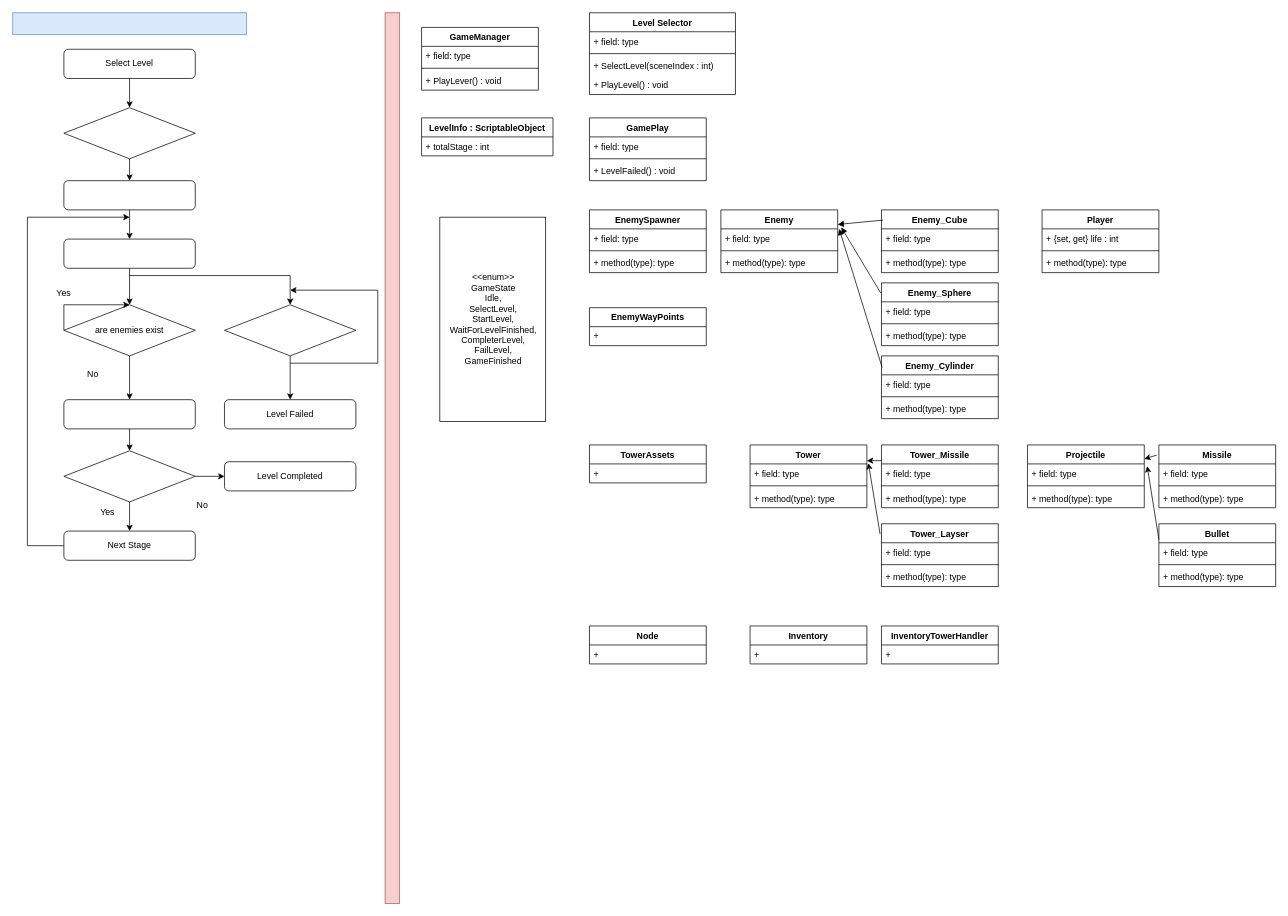
Some shapes in this 1288 by 916 pixel diagram are drawn without their labels. The centre of each missing label's shape, as x and y in pixels:
"Current Stage Index < Total stage count" belongs at point (129, 476).
"First Stage" belongs at point (129, 195).
"player life <= 0?" belongs at point (290, 330).
"Stage completed" belongs at point (129, 414).
"Start Button" belongs at point (129, 133).
"Start Spawn Enemies" belongs at point (129, 253).
"Tower Defence Logic" belongs at point (129, 23).
